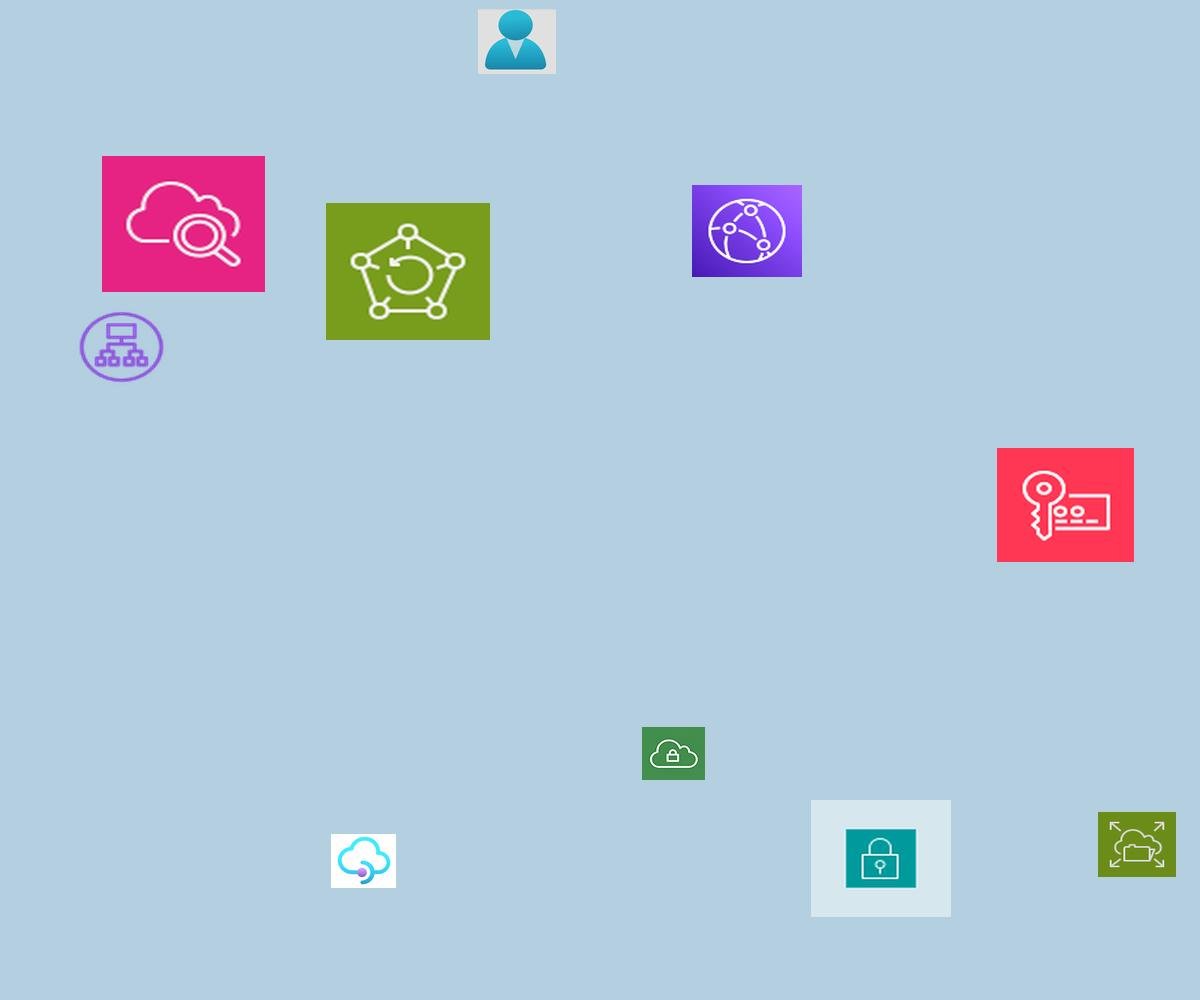AWS-Backup: (326, 203, 490, 340)
AWS-CloudFront: (692, 185, 802, 277)
AWS-CloudWatch: (102, 156, 265, 292)
AWS-EFS: (1098, 812, 1176, 877)
AWS-Key-Management-Service: (997, 448, 1134, 562)
AWS-Private-subnet: (811, 800, 951, 917)
AWS-Private_vpc: (642, 727, 705, 780)
AWS-Res_Elastic-Load-Balancing_Application-Load-Balancer: (76, 309, 167, 385)
Azure_api_gateway: (331, 834, 396, 888)
Azure_users: (478, 9, 556, 74)
